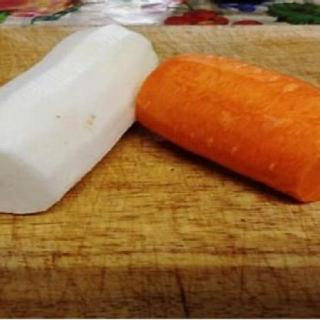carrot: (134, 48, 320, 232)
